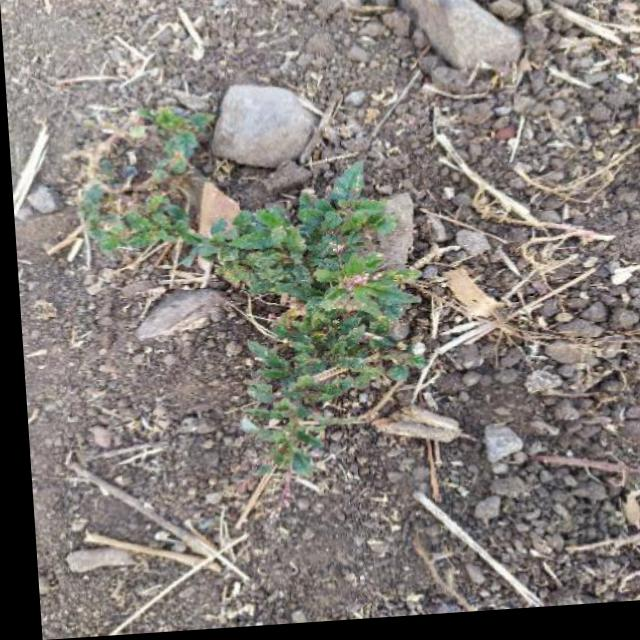weed: (165, 188, 466, 489)
